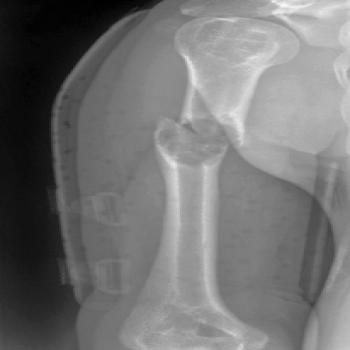Fracture: (142, 109, 244, 172)
